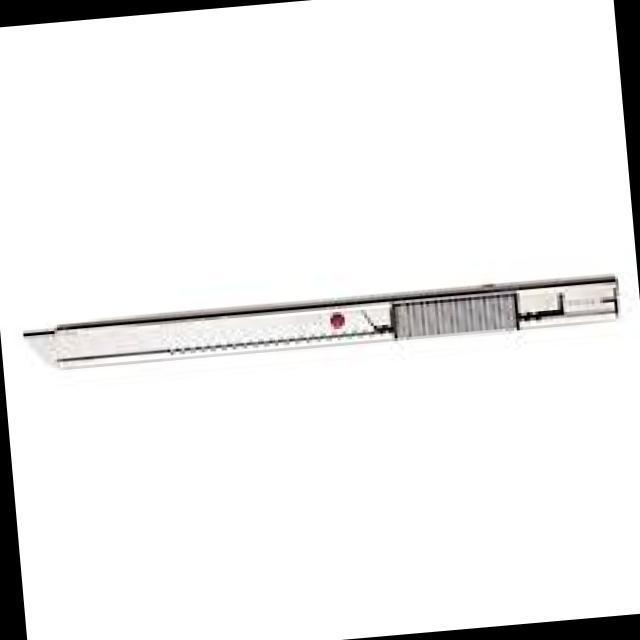cutter: (13, 268, 638, 384)
